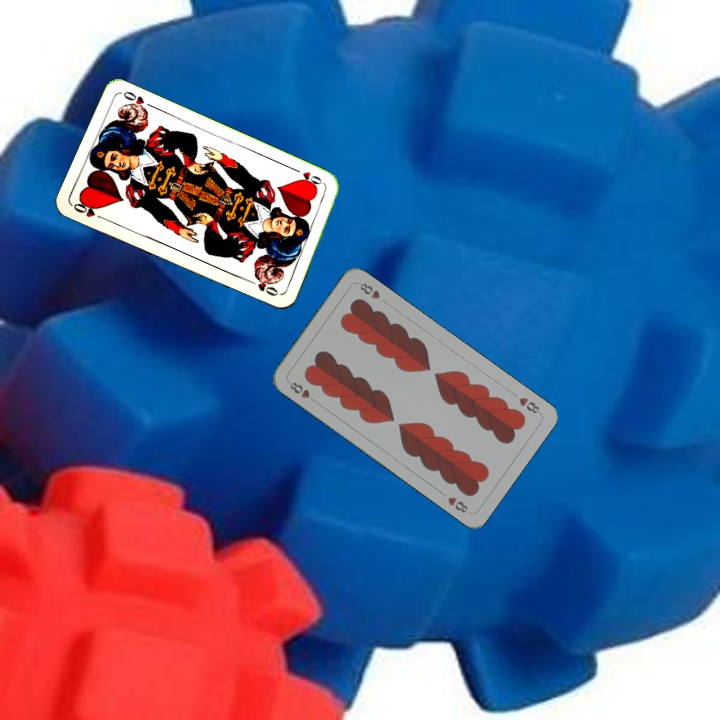H8: (515, 393, 544, 417), (286, 378, 312, 401)
HO: (69, 196, 107, 222), (291, 165, 329, 190)
